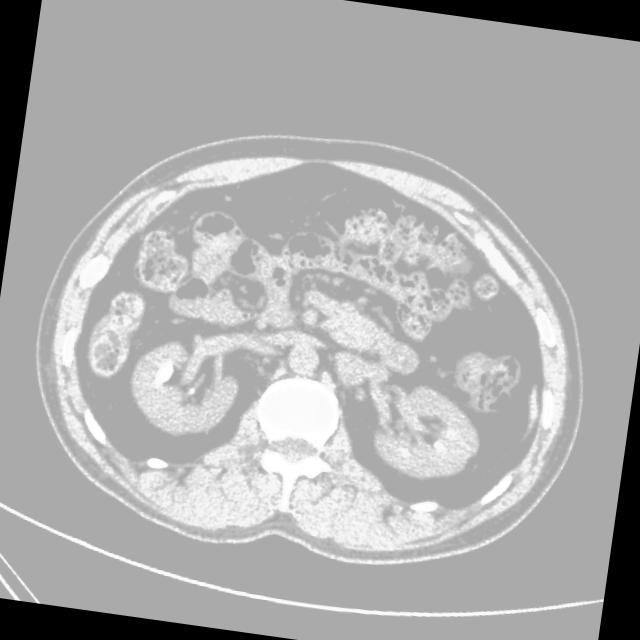STONE: (118, 264, 496, 489)
